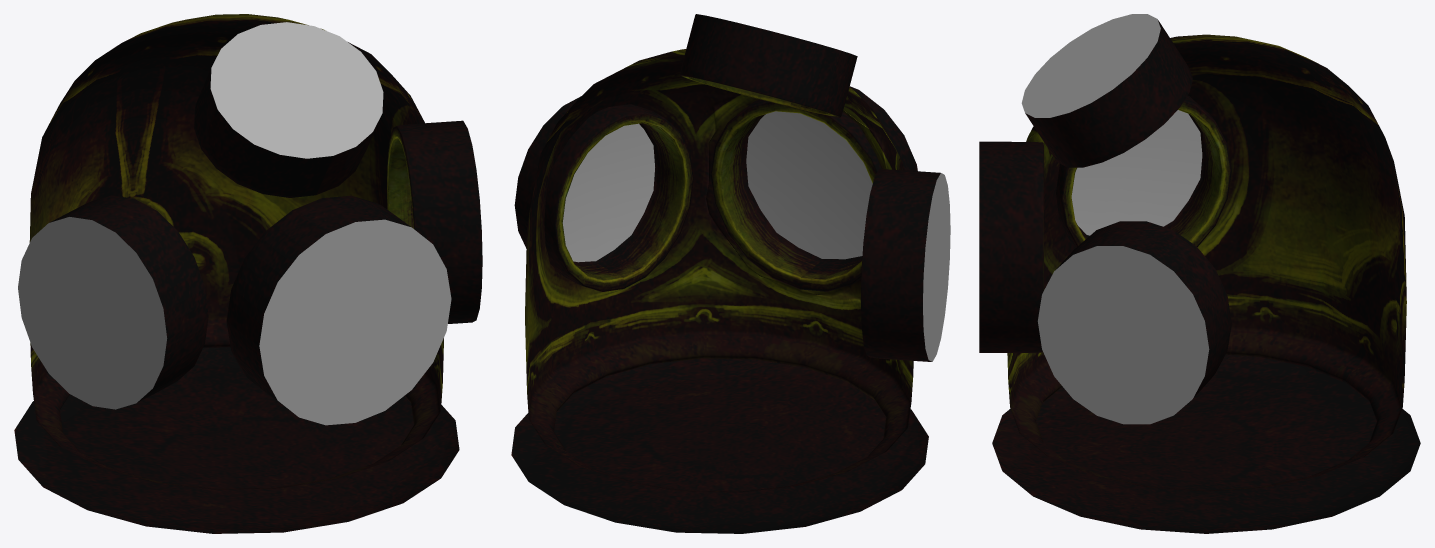
The model's file is HelmetV2.fbx.
3 renders of one model, left to right at view 1: azimuth 30°, elevation 25°; view 2: azimuth 150°, elevation 25°; view 3: azimuth 270°, elevation 25°, orthographic. The views are drawn at different scales.
Parts seen in each view (by area): view 1: pCylinder6; view 2: pCylinder6; view 3: pCylinder6.
Part boxes in pixels (x1=…): pCylinder6: x1=14, y1=14, x2=482, y2=533; pCylinder6: x1=511, y1=14, x2=950, y2=533; pCylinder6: x1=979, y1=14, x2=1420, y2=533.
Size of the model in its own units: 0.087 by 0.0839 by 0.0797.
